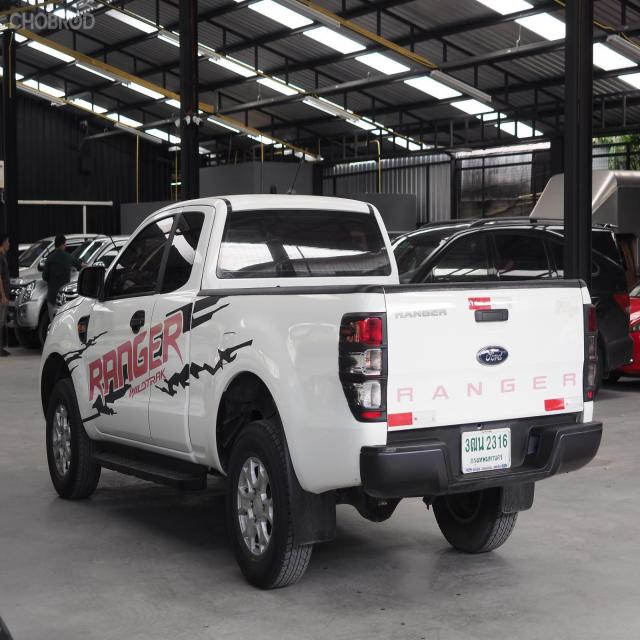license_plate: (460, 423, 517, 479)
